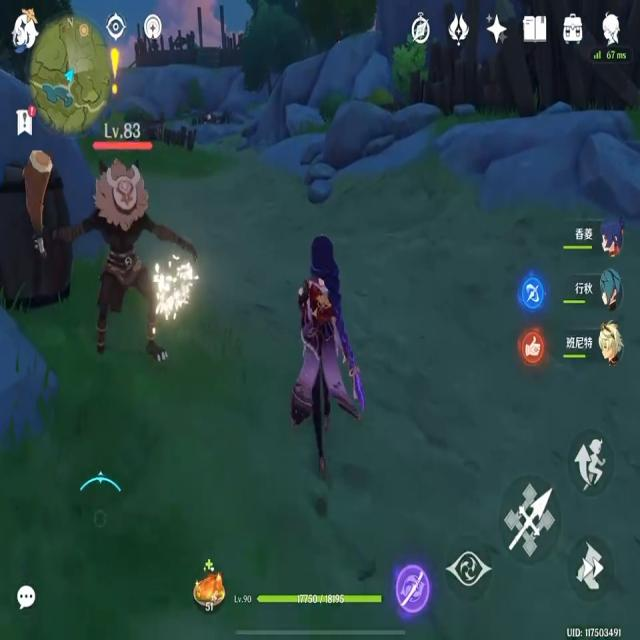genshin-hilichurls: (23, 151, 195, 369)
